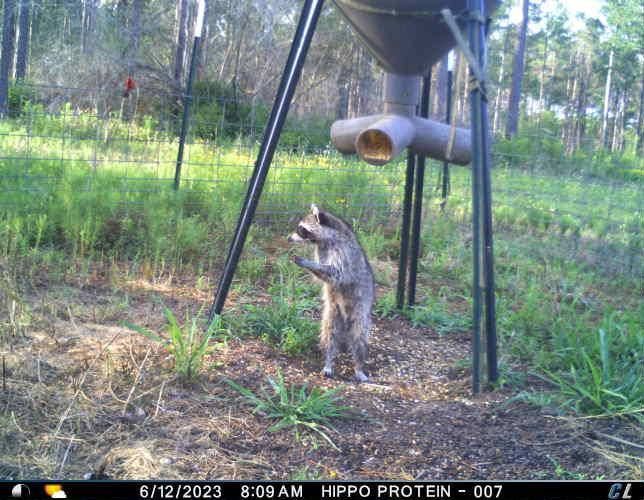Raccoon: (285, 199, 379, 386)
